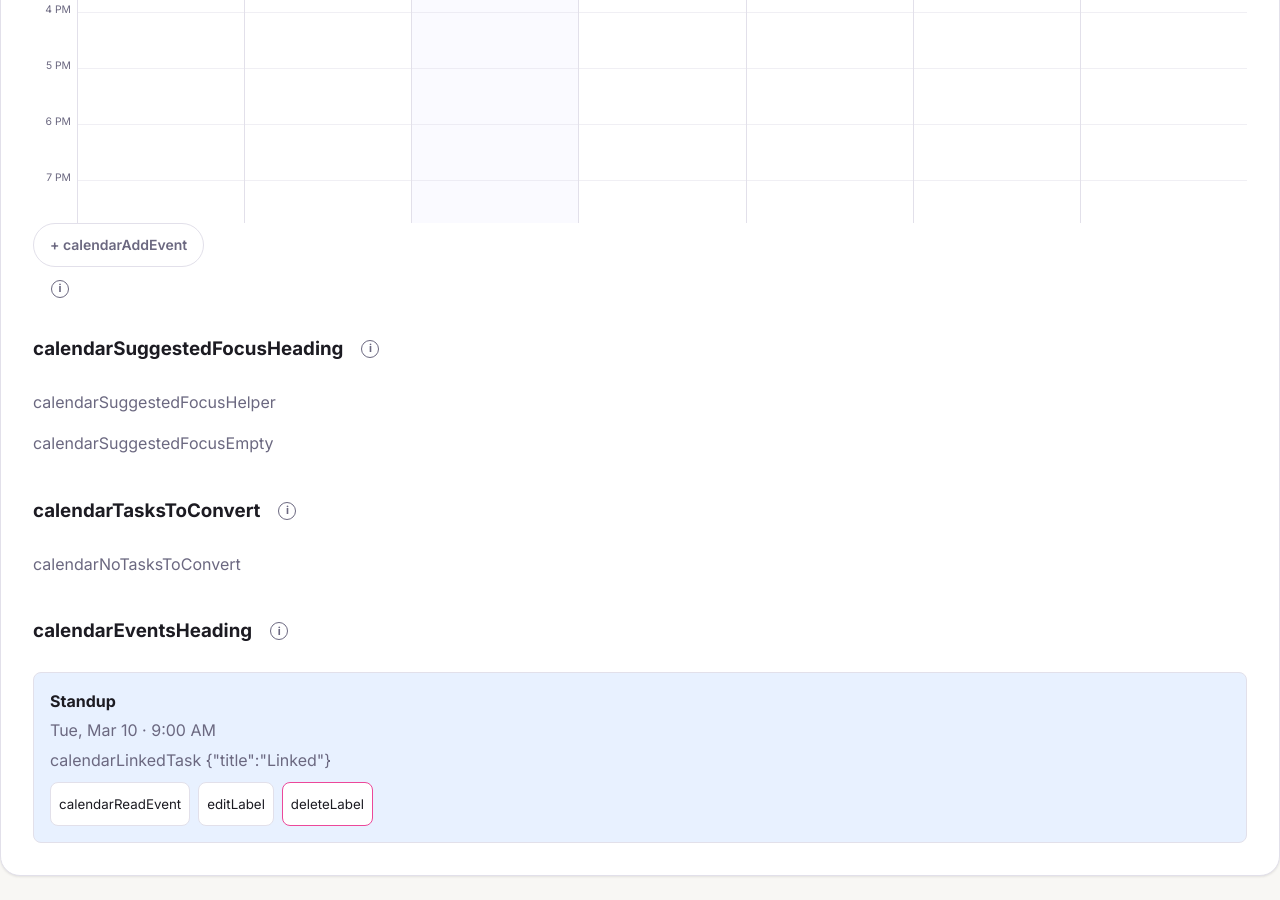
Test: CalendarView › asks before deleting, and keeps the linked task
(page scrolled)
What coordinates should you click on to do the following:
click the button "deleteLabel"
I would click on:
 (327, 804)
Its box is [282, 782, 373, 826].
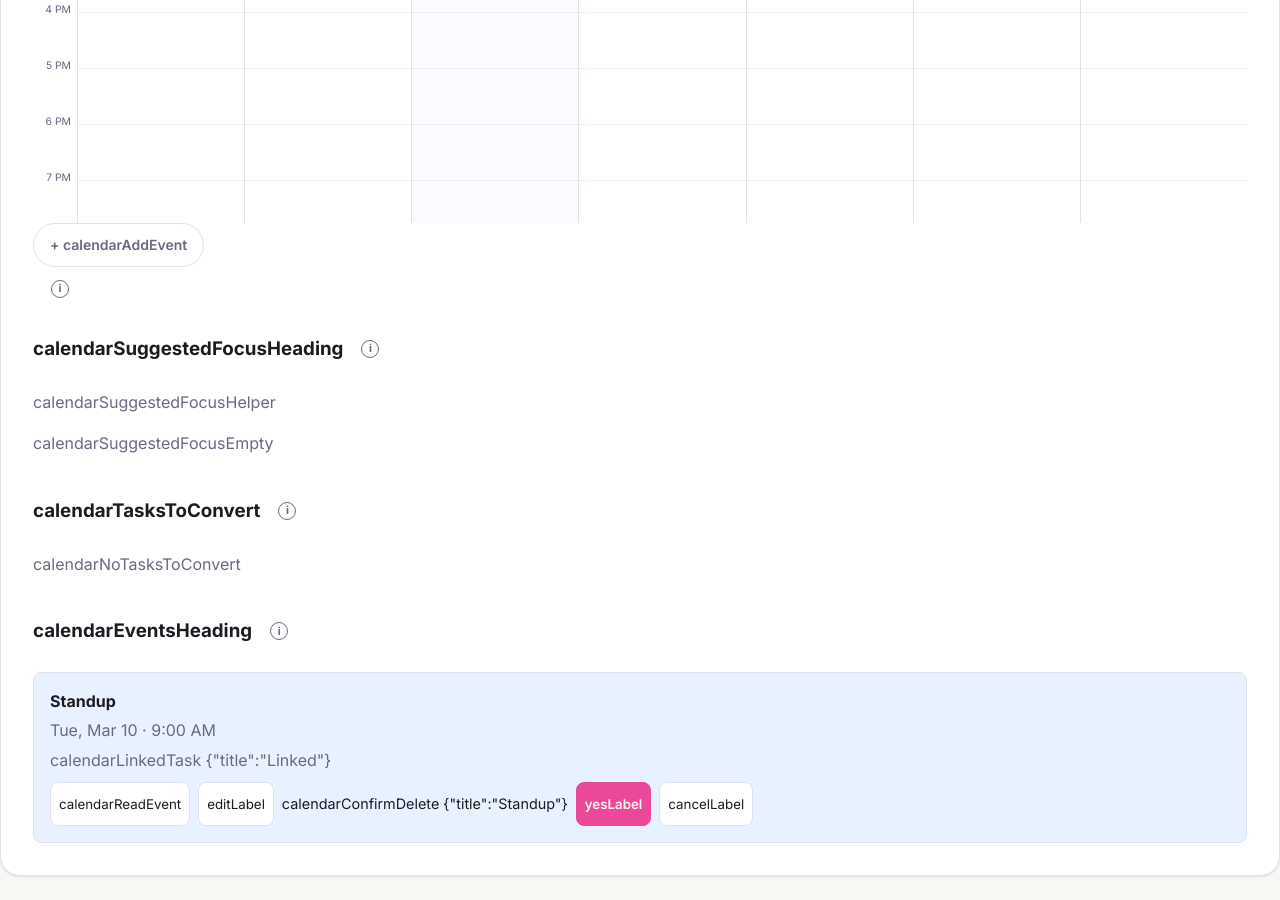
What coordinates should you click on to do the following:
click the button "yesLabel"
I would click on:
 (614, 804)
Its box is [576, 782, 651, 826].
(page scrolled)
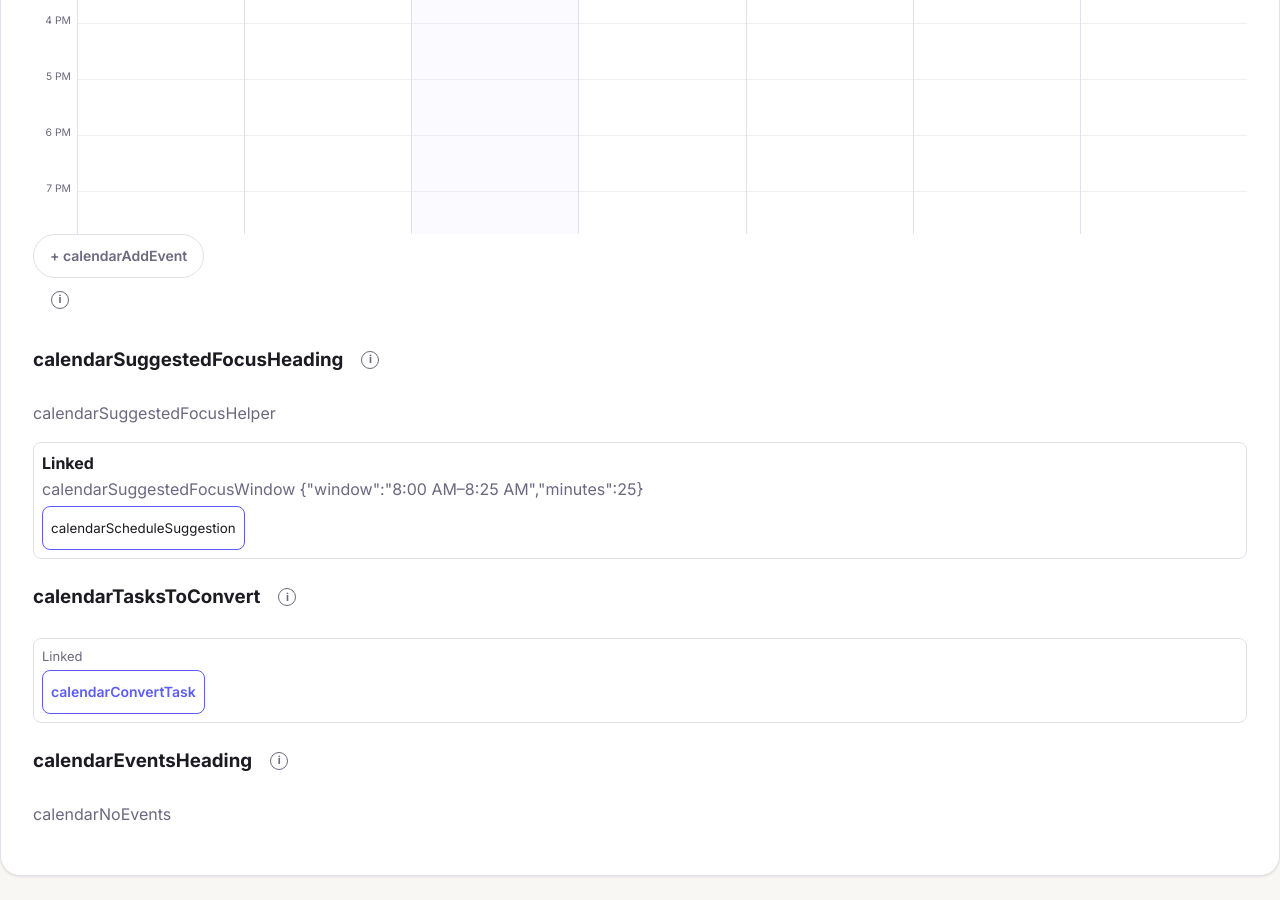
Check: the text "Standup" is gone
